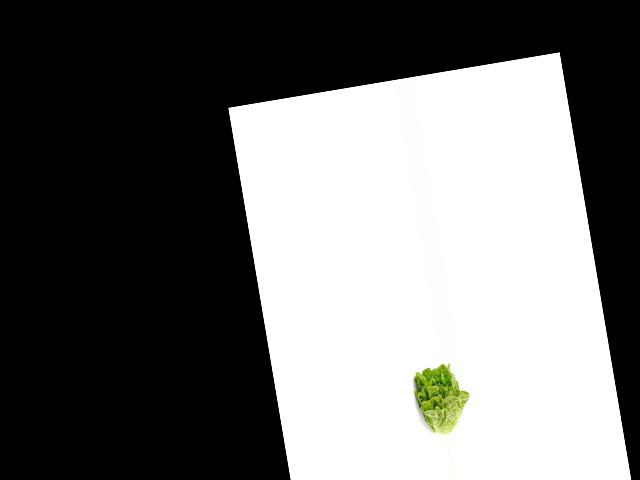lettuce: (406, 361, 474, 438)
